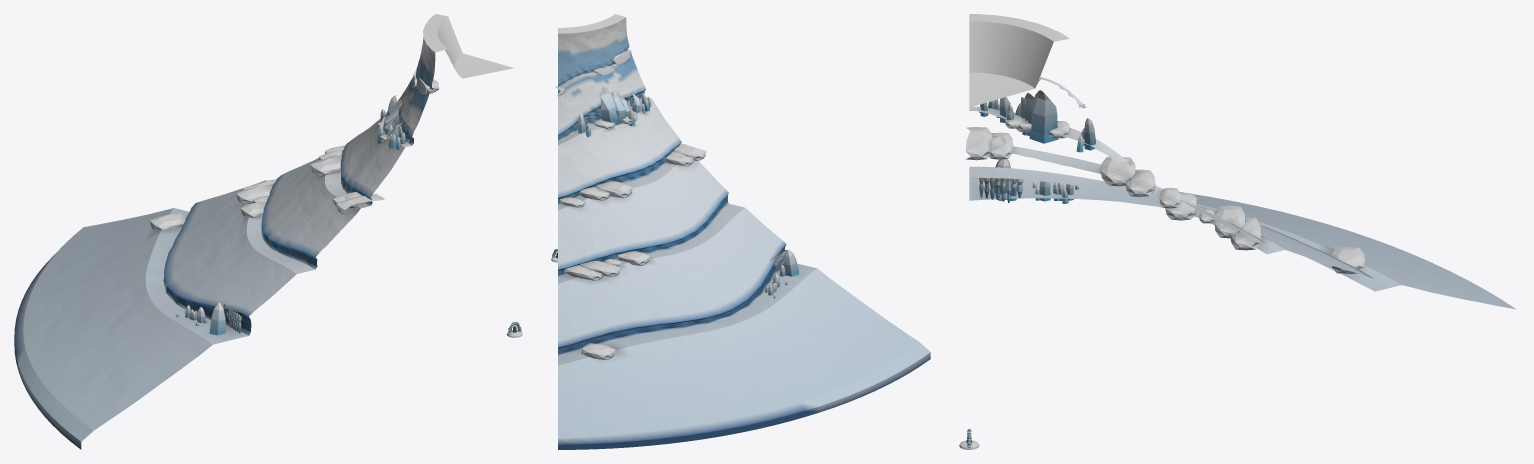
The model's file is glacier-s3-CgGY50JR.glb.
The picture shows the model from 3 angles, left to right: view 1: azimuth 30°, elevation 25°; view 2: azimuth 150°, elevation 25°; view 3: azimuth 270°, elevation 25°; orthographic projection. The views are drawn at different scales.
Visible parts, largest first — view 1: sc_landmark_2; view 2: sc_landmark_2; view 3: sc_landmark_2.
Boxes of the visible parts, bbox=[...] form: sc_landmark_2: bbox=[14, 14, 513, 449]; sc_landmark_2: bbox=[555, 14, 930, 449]; sc_landmark_2: bbox=[965, 14, 1516, 309].
Bounding box in the file's own units: 423 × 286 × 367.
